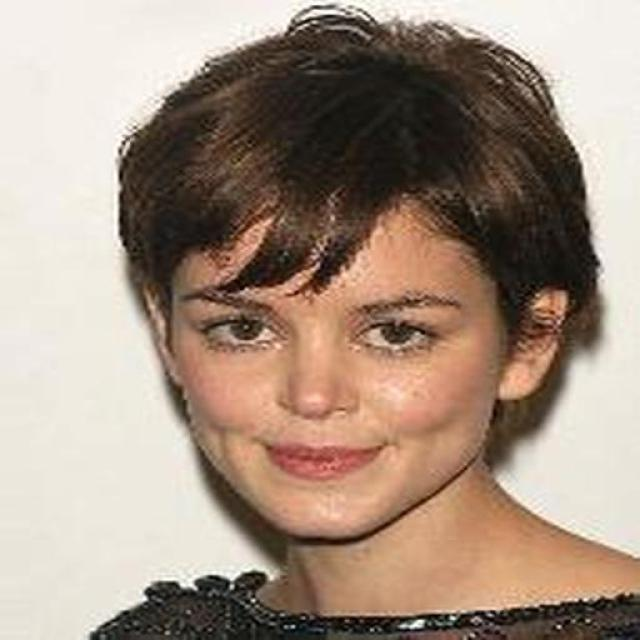bareface: (124, 29, 565, 562)
